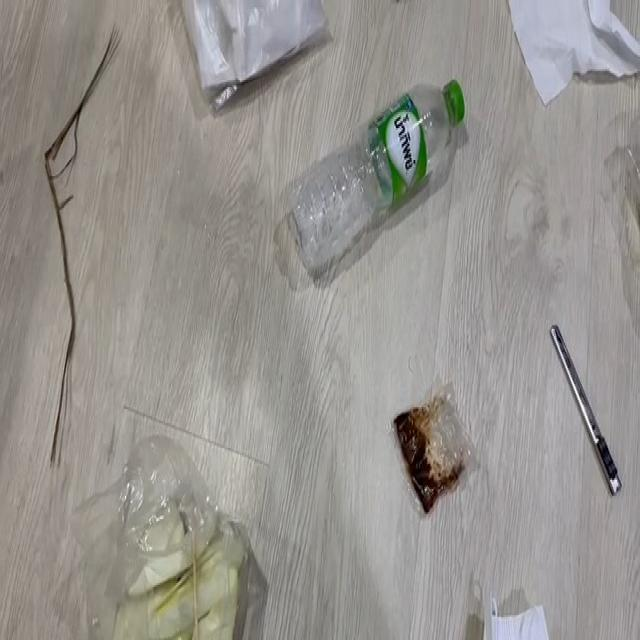Anorganik: (286, 64, 484, 264), (544, 307, 640, 487), (516, 0, 639, 98), (189, 0, 318, 70)
B3: (35, 0, 118, 430), (110, 435, 255, 633), (453, 540, 589, 640), (391, 376, 492, 509)
